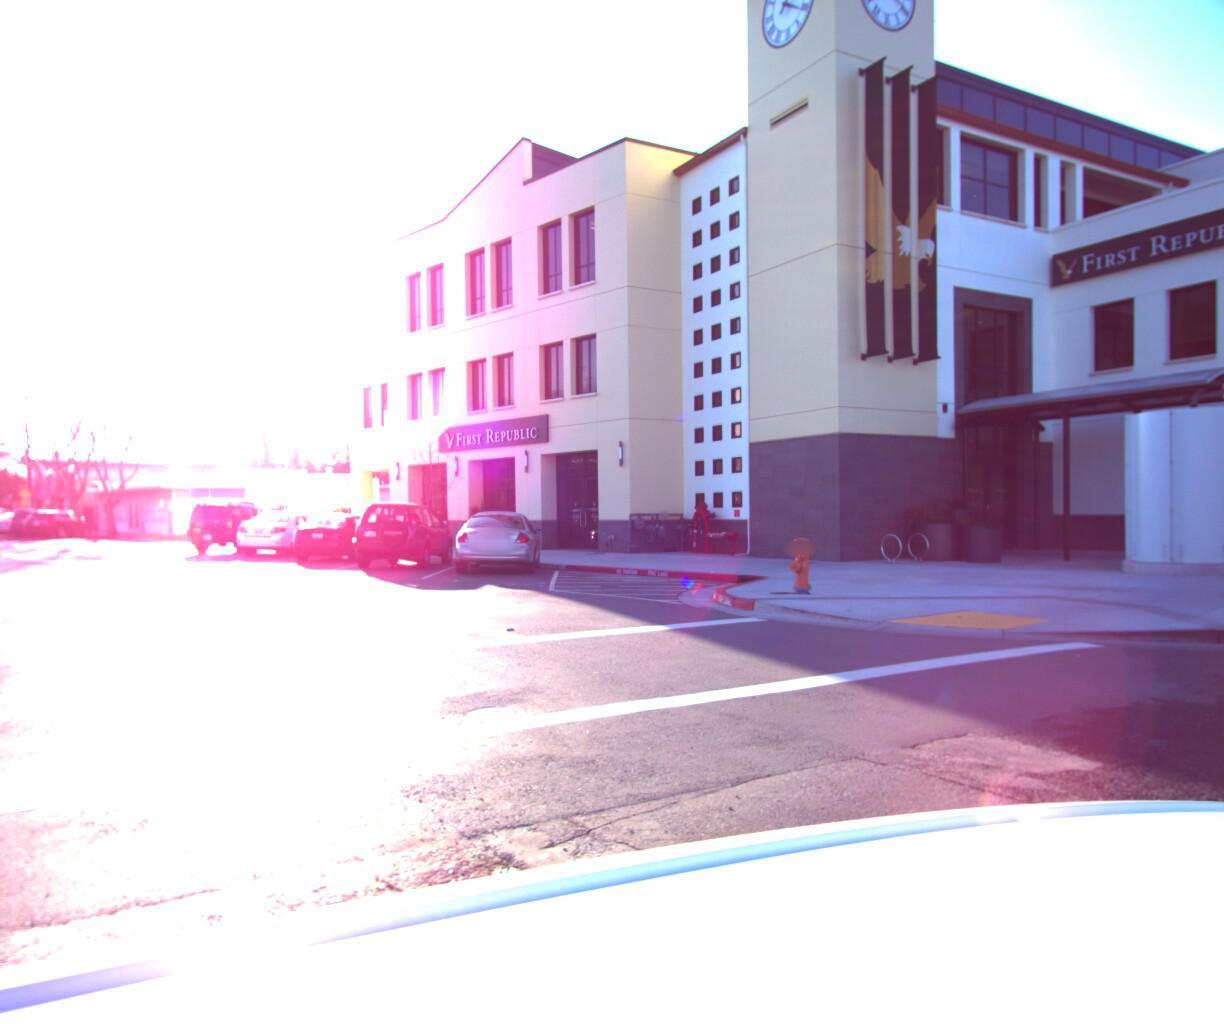car: (343, 498, 463, 573), (443, 502, 547, 579), (180, 495, 299, 553), (283, 510, 395, 562), (227, 508, 346, 557), (7, 506, 78, 538), (23, 513, 97, 539), (0, 507, 53, 537), (0, 508, 45, 536), (0, 504, 32, 534), (0, 505, 2, 614)
